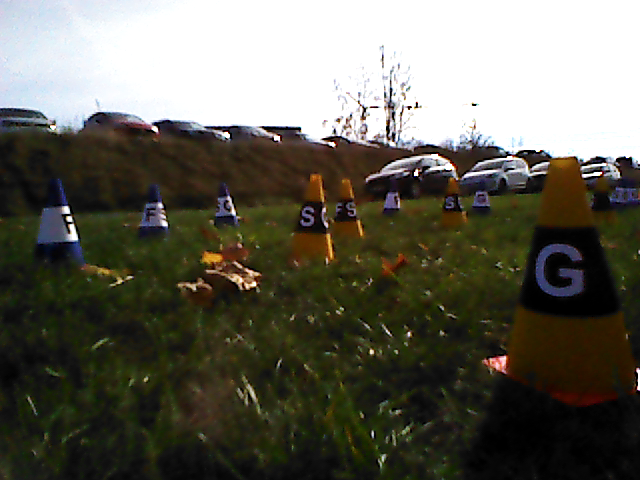bluecone: (34, 179, 89, 269), (138, 186, 170, 236), (214, 183, 238, 227), (471, 182, 491, 215)
yellowcone: (511, 158, 636, 388), (290, 175, 334, 262), (333, 179, 362, 237), (440, 177, 467, 226)
